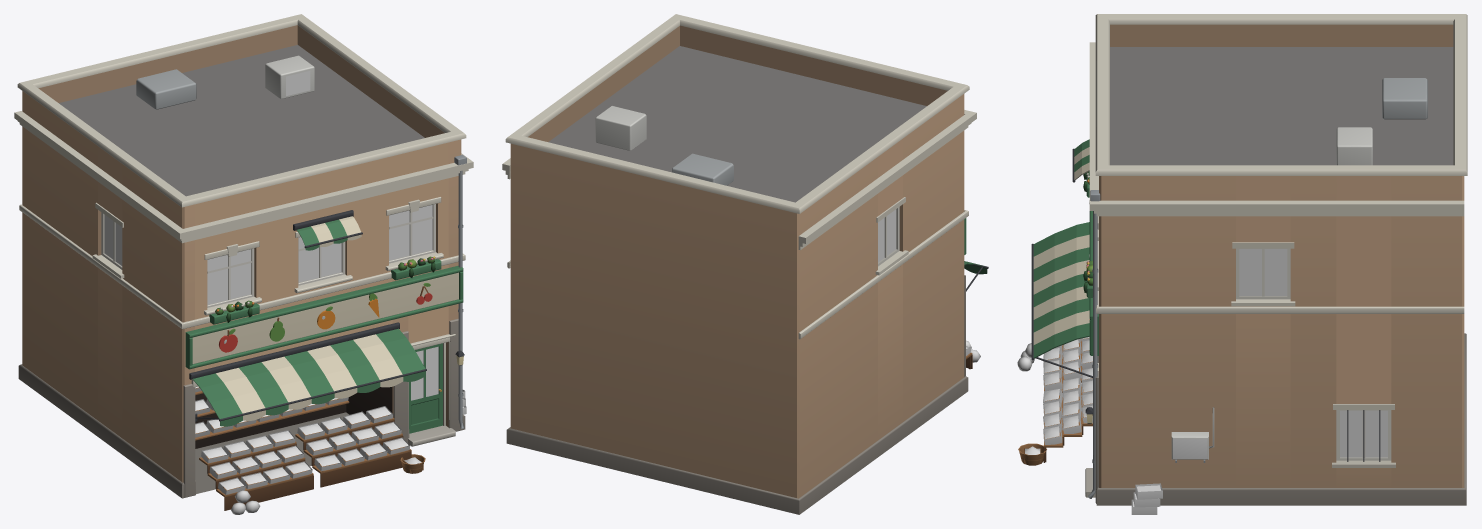
File: ShopFruit.fbx
The picture shows the model from 3 angles, left to right: view 1: azimuth 30°, elevation 25°; view 2: azimuth 150°, elevation 25°; view 3: azimuth 270°, elevation 25°; orthographic projection. The views are drawn at different scales.
Visible parts, largest first — view 1: ShopFruit; view 2: ShopFruit; view 3: ShopFruit.
Boxes of the visible parts, bbox=[...] form: ShopFruit: bbox=[14, 14, 473, 514]; ShopFruit: bbox=[502, 14, 988, 514]; ShopFruit: bbox=[1017, 14, 1467, 514].
Bounding box in the file's own units: 8.77 × 8.11 × 9.85.
